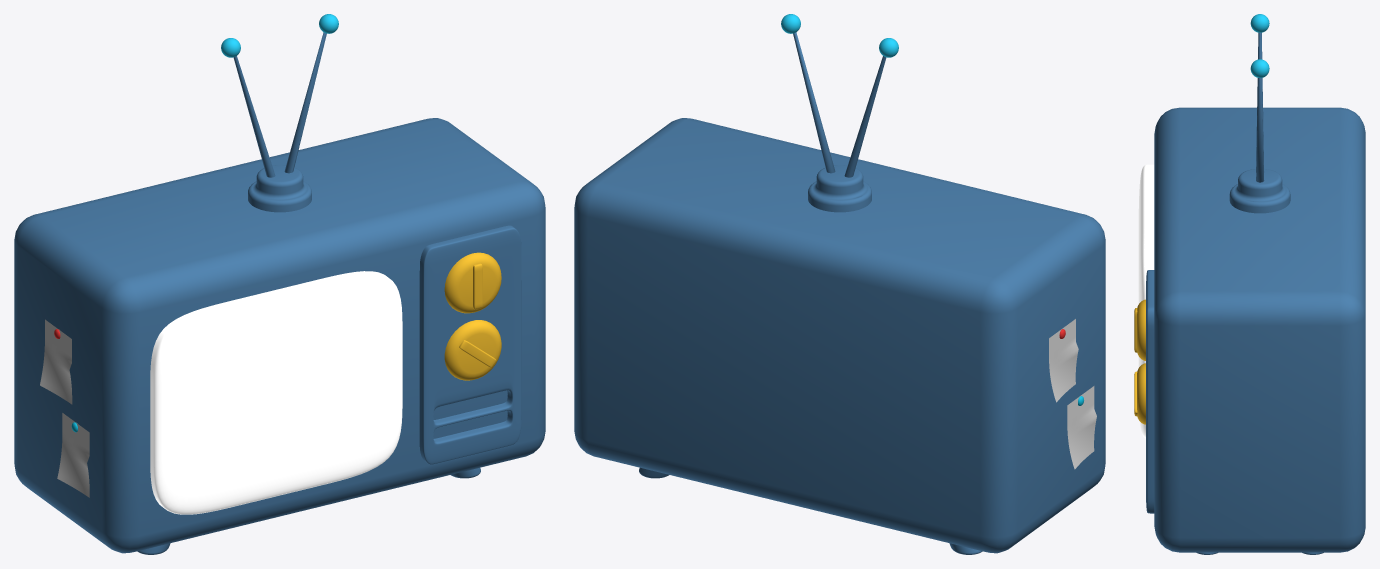
3 renders of one model, left to right at view 1: azimuth 30°, elevation 25°; view 2: azimuth 150°, elevation 25°; view 3: azimuth 270°, elevation 25°, orthographic. The views are drawn at different scales.
Parts seen in each view (by area): view 1: Cube, 立方體, 立方體.001, 圓柱體.001, 圓柱體, 圓柱體.002, 平面.001, 平面, 圓柱體.003, 球體; view 2: Cube, 圓柱體.002, 圓柱體.003, 平面.001, 平面, 球體; view 3: Cube, 立方體.001, 立方體, 圓柱體.002, 圓柱體.003, 圓柱體.001, 圓柱體, 球體.
Boxes of the visible parts, x1,y1,x2,y2 form: Cube: [14, 118, 545, 553]; 立方體: [150, 271, 402, 514]; 立方體.001: [419, 225, 521, 464]; 圓柱體.001: [444, 252, 501, 313]; 圓柱體: [444, 320, 501, 380]; 圓柱體.002: [248, 165, 311, 212]; 平面.001: [57, 413, 89, 497]; 平面: [40, 319, 72, 404]; 圓柱體.003: [233, 32, 326, 177]; 球體: [221, 14, 338, 57]; Cube: [574, 118, 1105, 553]; 圓柱體.002: [808, 165, 871, 212]; 圓柱體.003: [793, 32, 886, 177]; 平面.001: [1067, 386, 1096, 469]; 平面: [1049, 319, 1078, 402]; 球體: [781, 14, 898, 57]; Cube: [1154, 107, 1365, 552]; 立方體.001: [1146, 270, 1154, 513]; 立方體: [1138, 164, 1154, 438]; 圓柱體.002: [1229, 169, 1290, 213]; 圓柱體.003: [1256, 32, 1264, 182]; 圓柱體.001: [1134, 299, 1145, 360]; 圓柱體: [1134, 363, 1145, 424]; 球體: [1250, 14, 1269, 77].
Bounding box in the file's own units: 2.08 × 2.05 × 0.98.
